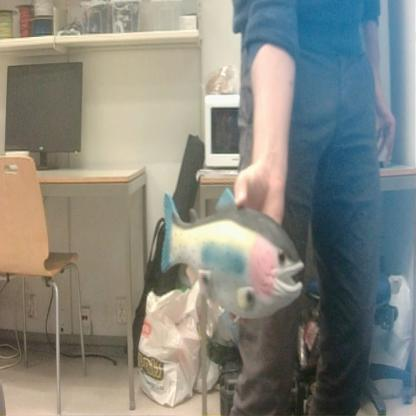rubberfish: (156, 181, 308, 324)
